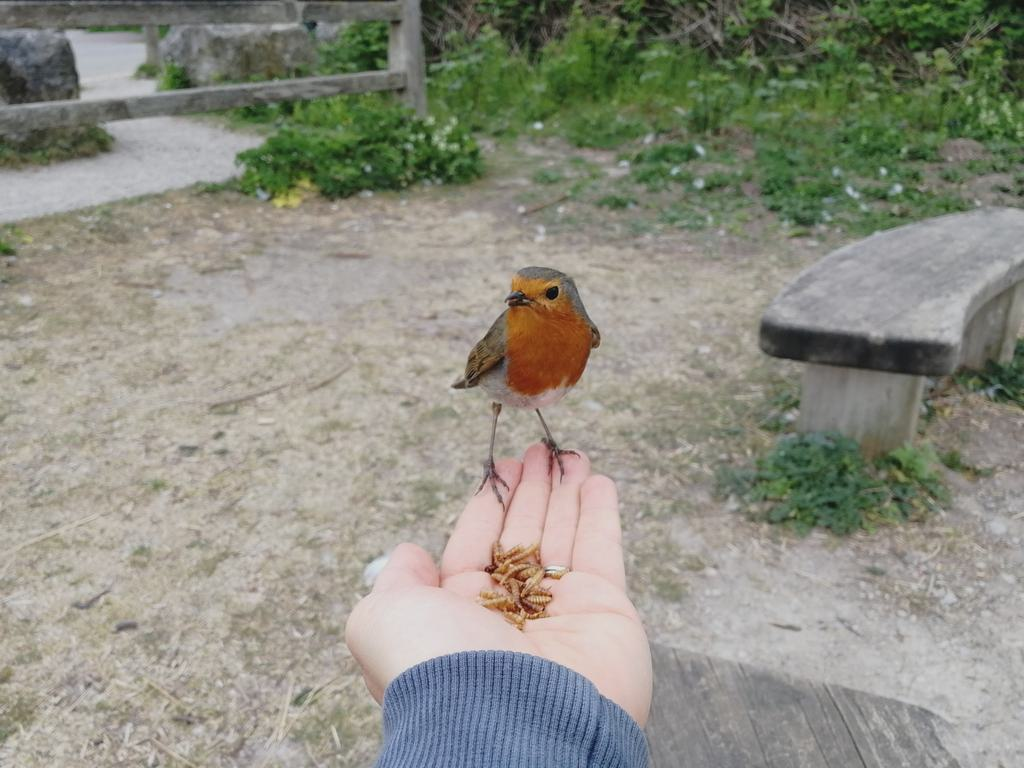ErithacusRubecula: (449, 265, 600, 511)
